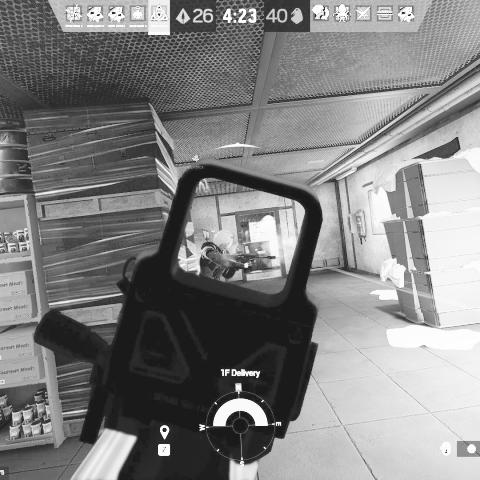Character: (197, 228, 278, 283)
Friend_label: (186, 154, 204, 169)
Head: (213, 229, 234, 252)
